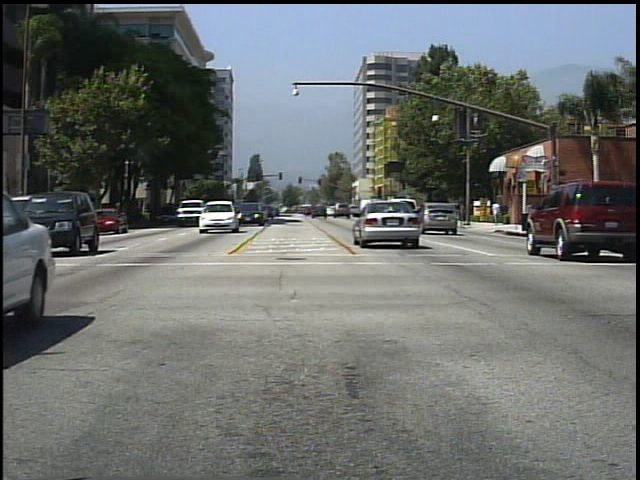person: (447, 194, 465, 229), (492, 197, 503, 227)
